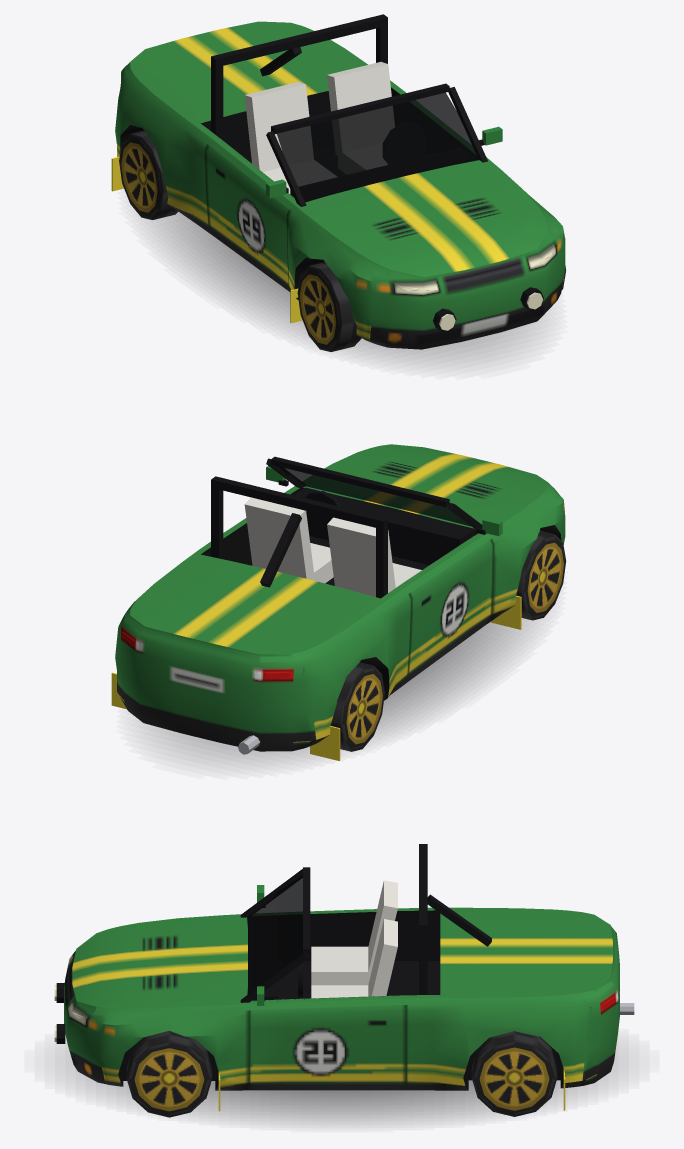
The model's file is pirilampo.glb.
3 renders of one model, top to bottom at view 1: azimuth 30°, elevation 25°; view 2: azimuth 150°, elevation 25°; view 3: azimuth 270°, elevation 25°, orthographic. The views are drawn at different scales.
Parts seen in each view (by area): view 1: Carroceria, Capo_malha, Tampa_malha, Sombra, Porta_D_malha, Roda_DD, Roda_TD, Porta_E_malha; view 2: Carroceria, Tampa_malha, Capo_malha, Sombra, Porta_D_malha, Roda_TD, Roda_DD, Porta_E_malha; view 3: Carroceria, Tampa_malha, Capo_malha, Porta_E_malha, Sombra, Roda_DE, Roda_TE, Porta_D_malha.
Boxes of the visible parts, bbox=[...] form: Carroceria: bbox=[111, 14, 565, 349]; Capo_malha: bbox=[309, 166, 555, 278]; Tampa_malha: bbox=[124, 21, 362, 120]; Sombra: bbox=[149, 212, 537, 364]; Porta_D_malha: bbox=[205, 145, 289, 284]; Roda_DD: bbox=[297, 262, 361, 351]; Roda_TD: bbox=[119, 130, 178, 219]; Porta_E_malha: bbox=[398, 93, 502, 159]; Carroceria: bbox=[111, 447, 565, 760]; Tampa_malha: bbox=[124, 513, 376, 662]; Capo_malha: bbox=[311, 444, 555, 523]; Sombra: bbox=[146, 618, 534, 764]; Porta_D_malha: bbox=[408, 517, 502, 673]; Roda_TD: bbox=[330, 662, 384, 751]; Roda_DD: bbox=[516, 530, 566, 620]; Porta_E_malha: bbox=[223, 465, 300, 565]; Carroceria: bbox=[54, 844, 634, 1111]; Tampa_malha: bbox=[427, 894, 613, 999]; Capo_malha: bbox=[78, 917, 232, 1016]; Porta_E_malha: bbox=[249, 986, 406, 1082]; Sombra: bbox=[65, 1047, 618, 1123]; Roda_DE: bbox=[126, 1030, 212, 1117]; Roda_TE: bbox=[471, 1031, 557, 1116]; Porta_D_malha: bbox=[257, 885, 406, 960].
Size of the model in its own units: 2.44 by 1.4 by 4.6.
14 materials, 5 textured.
